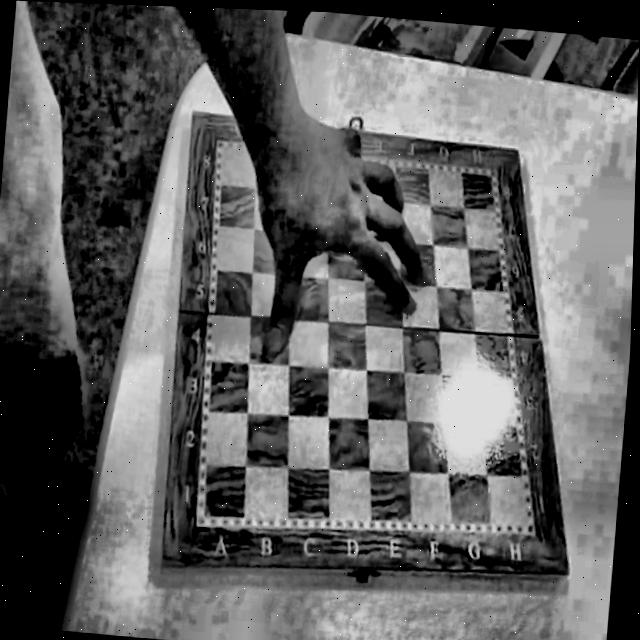chessboard: (160, 117, 564, 573)
